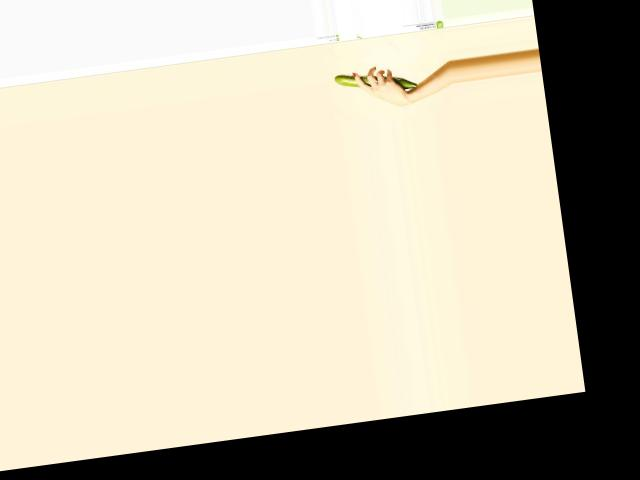cucumber: (334, 63, 418, 97)
